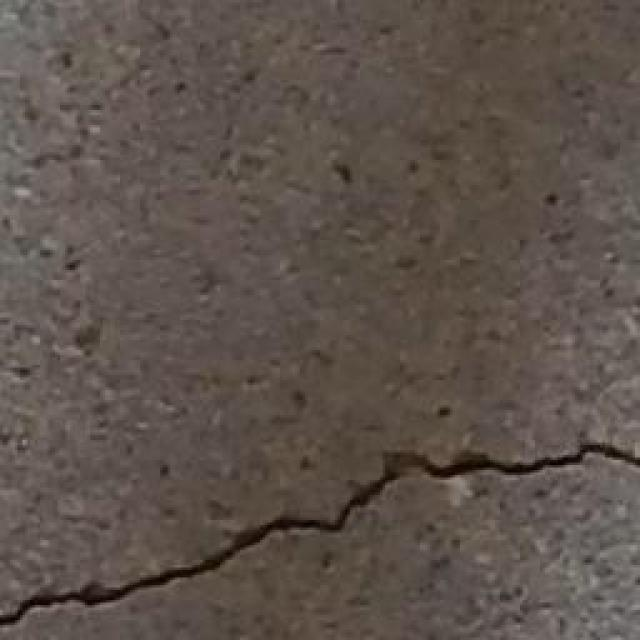concrete-crack: (0, 438, 640, 630)
